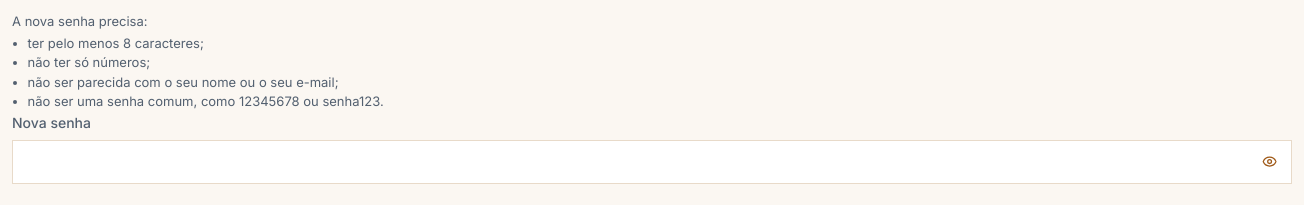
Test: CampoDeSenha › esconde o que é digitado e mostra quando a pessoa pede
Type "Bioinsumo!2026" into the password field labelled "Nova senha" at (652, 162), box [12,140,1292,184]
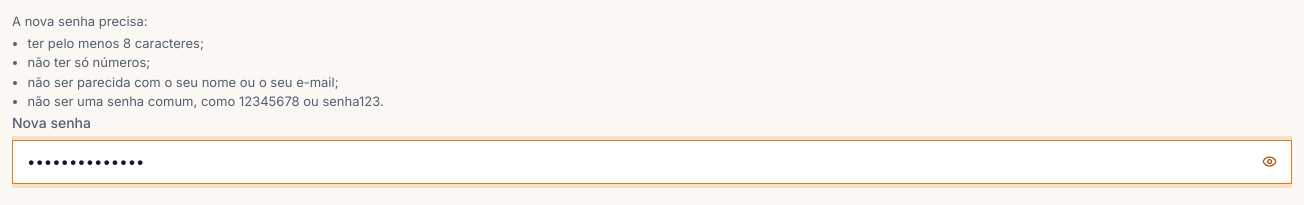
Click the button named "Mostrar senha" at (1270, 162), box [1252,144,1288,180]
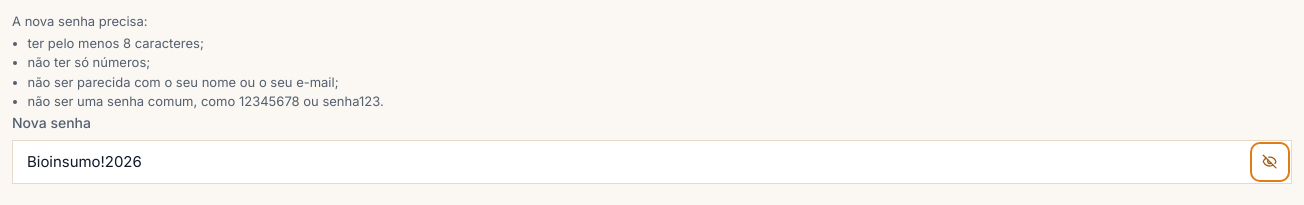
Result: the field labelled "Nova senha" shows its text at [12,140,1292,184]
